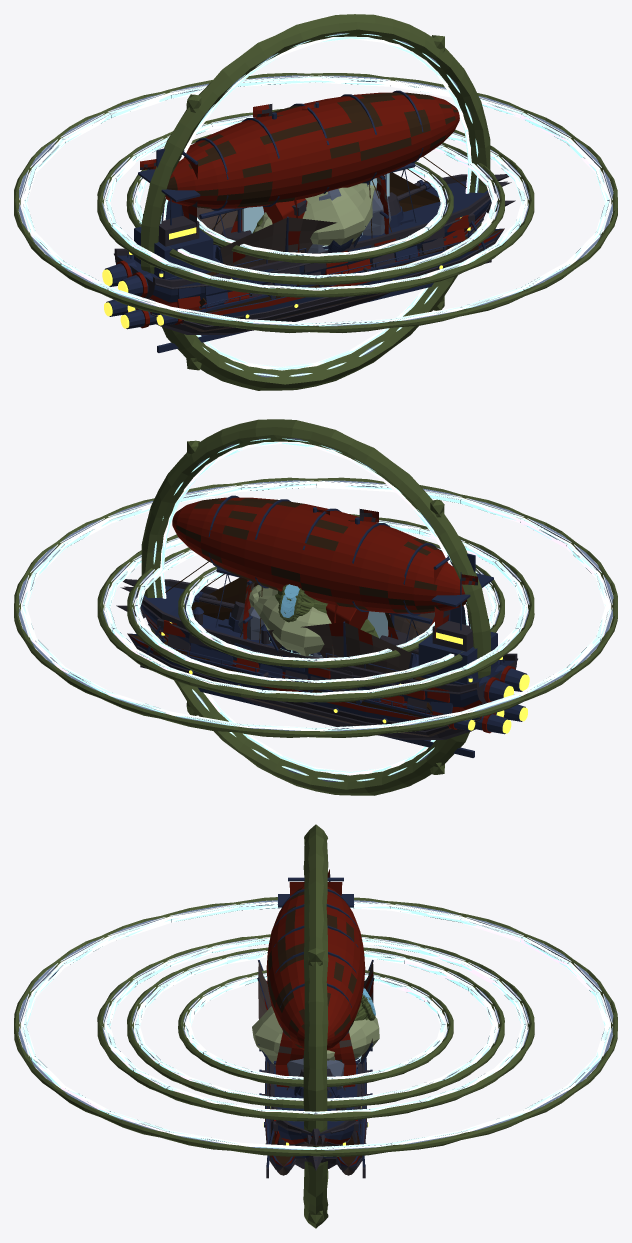
The model's file is sky_citadel_scenario_props.fbx.
The picture shows the model from 3 angles, top to bottom: view 1: azimuth 30°, elevation 25°; view 2: azimuth 150°, elevation 25°; view 3: azimuth 270°, elevation 25°; orthographic projection.
Parts seen in each view (by area): view 1: scn_prop_warship_a, scn_prop_hoop_e, scn_prop_warship_c, scn_prop_keel_ring_q, scn_prop_keel_ring_u, scn_prop_keel_ring_a, scn_prop_warship_e, scn_prop_keel_ring_s, scn_prop_warship_d, scn_prop_warship_b, scn_prop_keel_ring_r, scn_prop_lintel_d (+12 smaller); view 2: scn_prop_warship_a, scn_prop_hoop_e, scn_prop_warship_c, scn_prop_keel_ring_q, scn_prop_keel_ring_u, scn_prop_keel_ring_a, scn_prop_warship_e, scn_prop_keel_ring_s, scn_prop_warship_d, scn_prop_warship_b, scn_prop_keel_ring_r, scn_prop_keel_ring_w (+11 smaller); view 3: scn_prop_warship_a, scn_prop_hoop_e, scn_prop_keel_ring_q, scn_prop_keel_ring_u, scn_prop_keel_ring_a, scn_prop_keel_ring_s, scn_prop_keel_ring_r, scn_prop_keel_ring_w, scn_prop_keel_ring_c, scn_prop_keel_ring_v, scn_prop_warship_c, scn_prop_keel_ring_t (+8 smaller).
Boxes of the visible parts, x1,y1,x2,y2 form: scn_prop_warship_a: (138, 90, 459, 310); scn_prop_hoop_e: (141, 14, 490, 390); scn_prop_warship_c: (102, 159, 511, 309); scn_prop_keel_ring_q: (14, 73, 617, 332); scn_prop_keel_ring_u: (18, 75, 613, 325); scn_prop_keel_ring_a: (18, 75, 613, 326); scn_prop_warship_e: (156, 150, 504, 331); scn_prop_keel_ring_s: (97, 109, 534, 297); scn_prop_warship_d: (127, 102, 488, 312); scn_prop_warship_b: (104, 104, 515, 352); scn_prop_keel_ring_r: (126, 134, 504, 284); scn_prop_lintel_d: (255, 183, 375, 245); scn_prop_warship_a: (172, 495, 493, 717); scn_prop_hoop_e: (141, 419, 490, 795); scn_prop_warship_c: (120, 572, 529, 714); scn_prop_keel_ring_q: (14, 477, 617, 737); scn_prop_keel_ring_u: (19, 480, 613, 731); scn_prop_keel_ring_a: (18, 480, 613, 731); scn_prop_warship_e: (127, 555, 475, 736); scn_prop_keel_ring_s: (97, 514, 534, 702); scn_prop_warship_d: (143, 507, 504, 717); scn_prop_warship_b: (116, 509, 527, 757); scn_prop_keel_ring_r: (127, 539, 504, 689); scn_prop_keel_ring_w: (103, 520, 529, 695); scn_prop_warship_a: (266, 887, 365, 1097); scn_prop_hoop_e: (303, 824, 328, 1228); scn_prop_keel_ring_q: (14, 897, 617, 1156); scn_prop_keel_ring_u: (18, 900, 612, 1149); scn_prop_keel_ring_a: (18, 900, 613, 1150); scn_prop_keel_ring_s: (97, 934, 534, 1121); scn_prop_keel_ring_r: (127, 947, 504, 1108); scn_prop_keel_ring_w: (102, 937, 529, 1114); scn_prop_keel_ring_c: (102, 937, 529, 1114); scn_prop_keel_ring_v: (132, 950, 499, 1101); scn_prop_warship_c: (266, 869, 365, 1178); scn_prop_keel_ring_t: (178, 970, 453, 1086).
Bounding box in the file's own units: 108 × 72.18 × 108.
